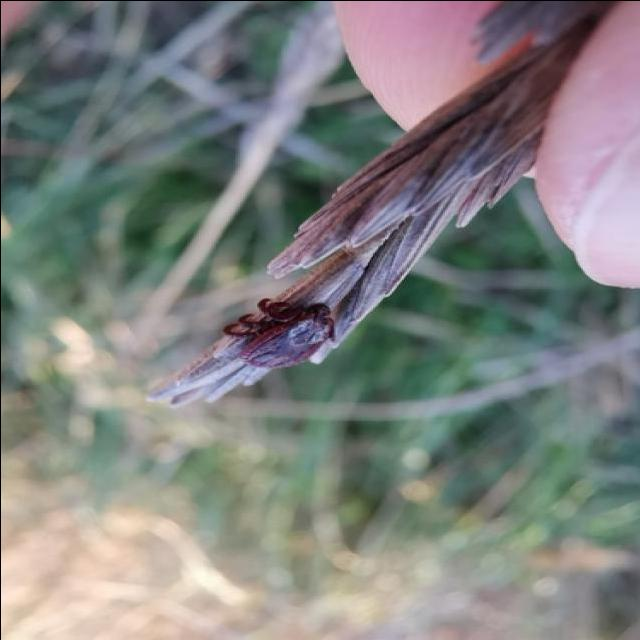Dermacentor Reticulatus-F: (225, 298, 338, 367)
